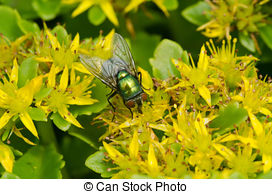green bottles flies: (76, 31, 157, 122)
